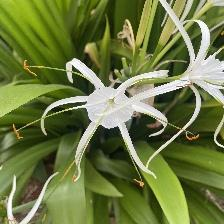spider lily: (154, 1, 224, 139), (82, 74, 157, 145), (1, 171, 60, 224)
